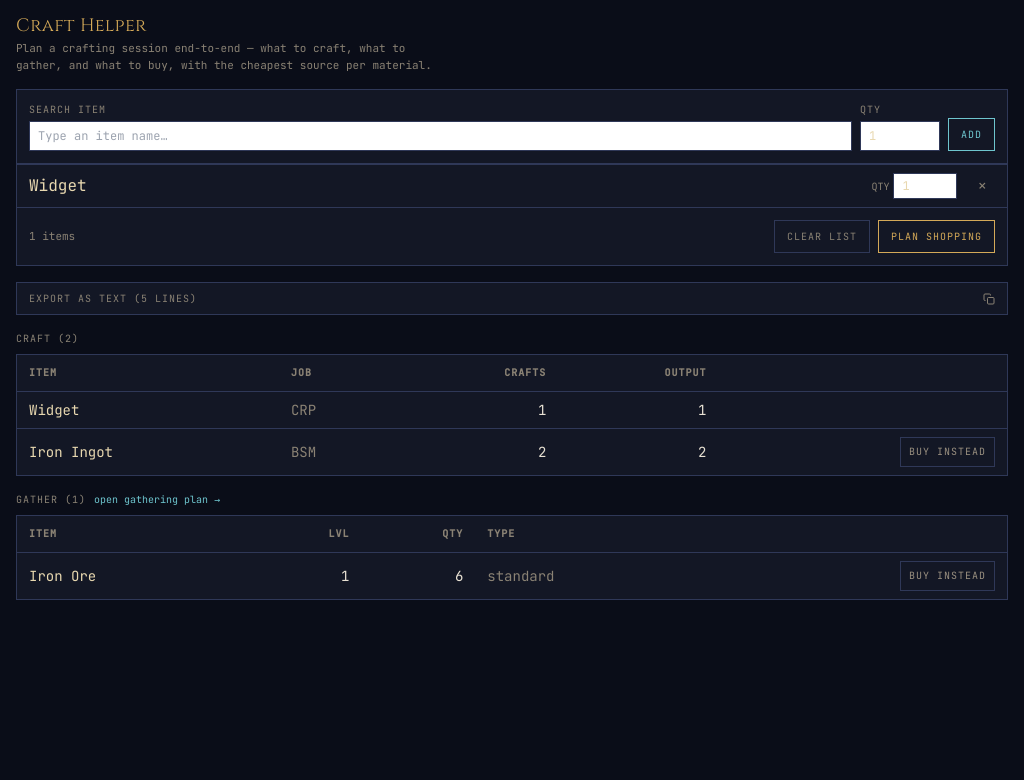
ShoppingList route › moves a gatherable leaf into the Buy list when "Buy instead" is clicked
Expected: the text "Iron Ore" is shown, 29,567 -> 96,585
Click the button "Buy instead" in the row of "Iron Ore".
click(948, 576)  # box 900,561 -> 995,591
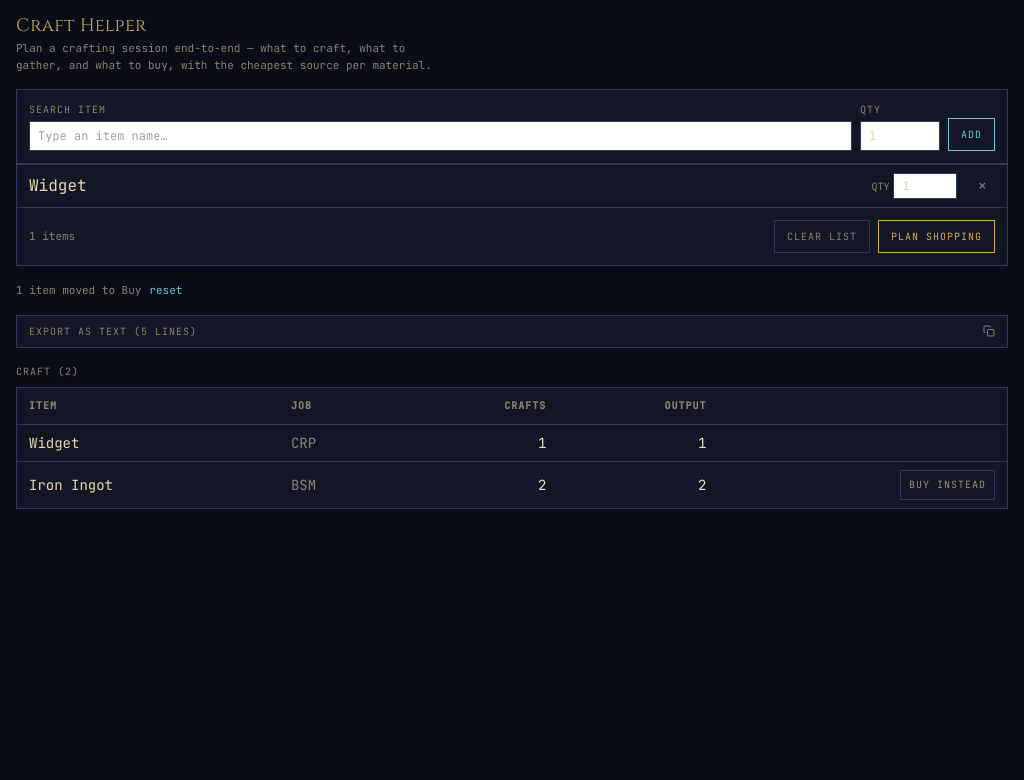
Result: the text "1 item moved to Buy" is shown at 16,282 -> 141,298
